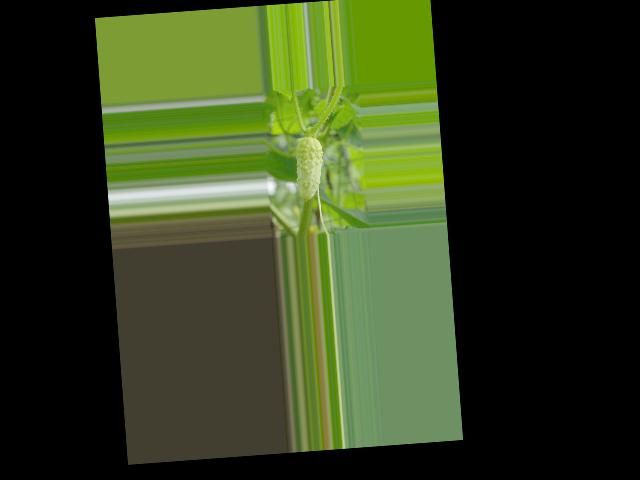cucumber: (294, 135, 327, 202)
